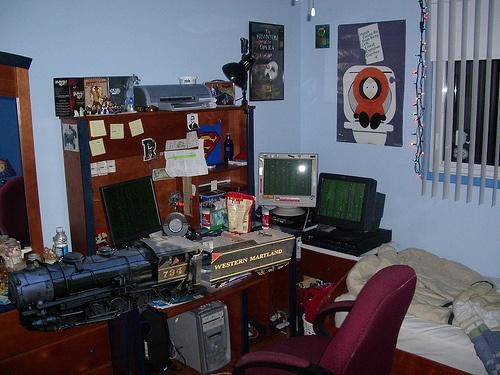tampered: (9, 229, 295, 332)
